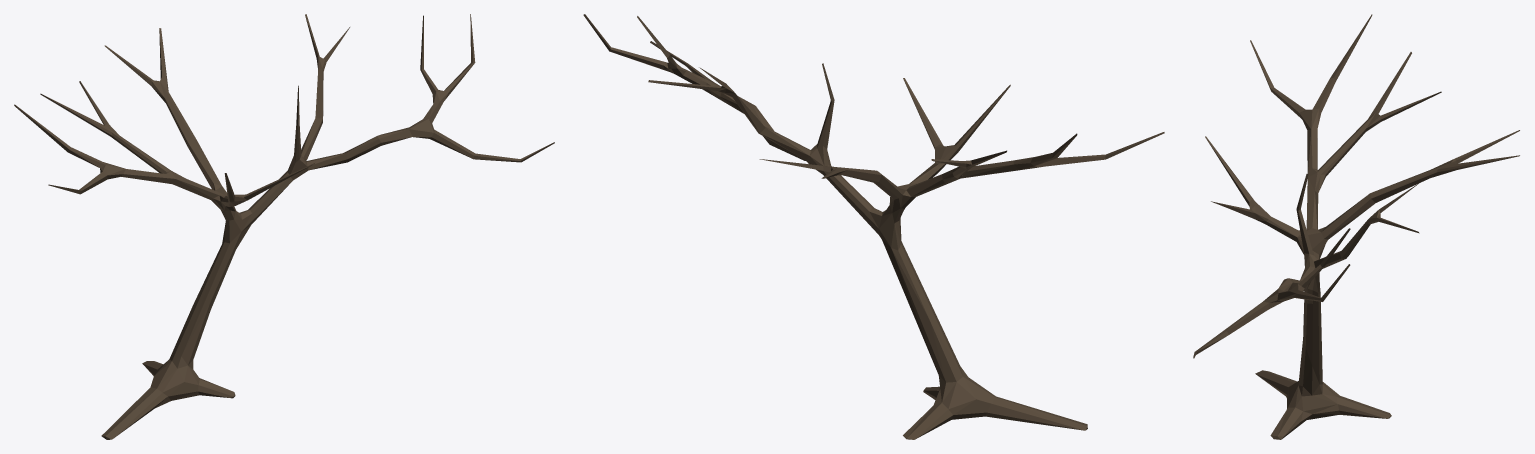
File: SM_Envr_Nature_Tree_Large_Dead_03.fbx
3 renders of one model, left to right at view 1: azimuth 30°, elevation 25°; view 2: azimuth 150°, elevation 25°; view 3: azimuth 270°, elevation 25°, orthographic. The views are drawn at different scales.
Parts seen in each view (by area): view 1: SM_Envr_Nature_Tree_Large_Dead_03; view 2: SM_Envr_Nature_Tree_Large_Dead_03; view 3: SM_Envr_Nature_Tree_Large_Dead_03.
Part boxes in pixels (left/top/right/bottom): SM_Envr_Nature_Tree_Large_Dead_03: left=14, top=14, right=554, bottom=439; SM_Envr_Nature_Tree_Large_Dead_03: left=583, top=14, right=1164, bottom=439; SM_Envr_Nature_Tree_Large_Dead_03: left=1193, top=14, right=1519, bottom=439.
Size of the model in its own units: 899 by 551 by 484.
